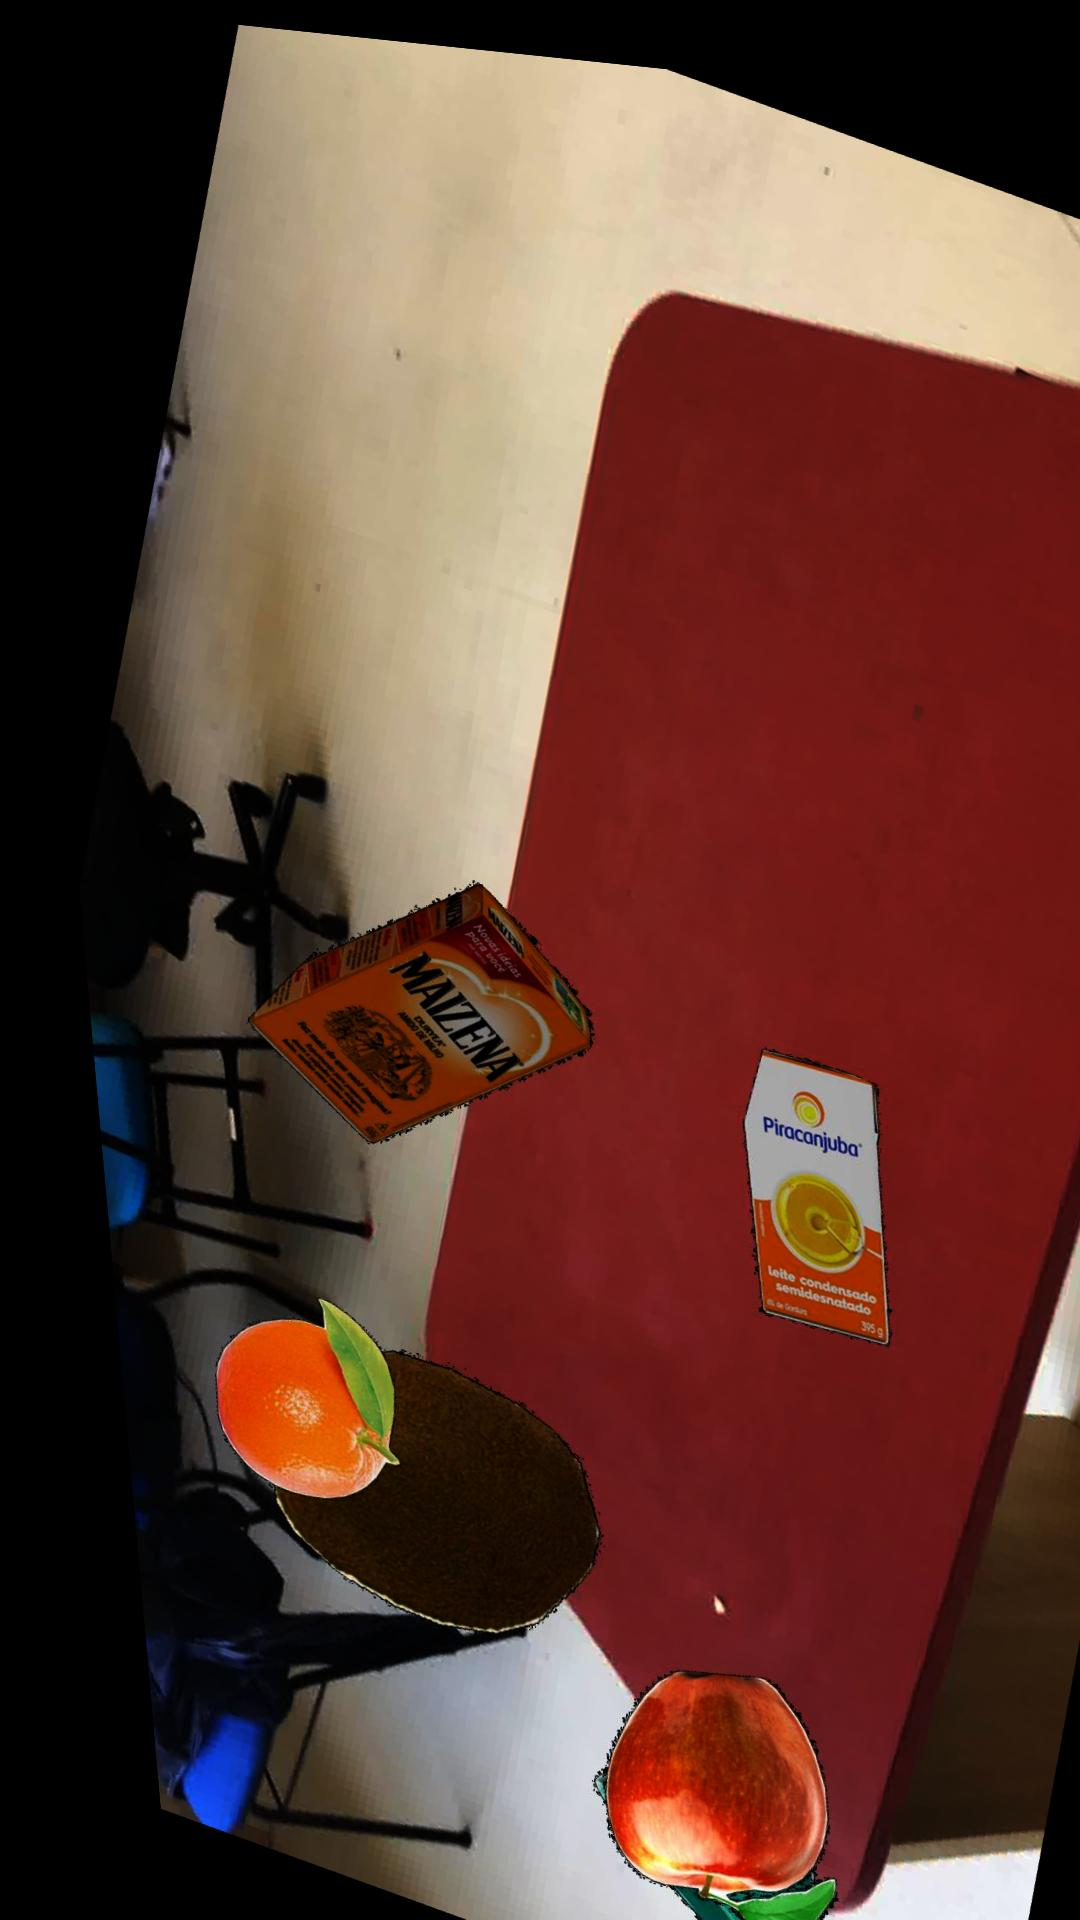apple: (571, 1658, 806, 1920)
bowl: (563, 1760, 790, 1920)
kiwi: (247, 1344, 575, 1626)
orange: (191, 1292, 376, 1494)
